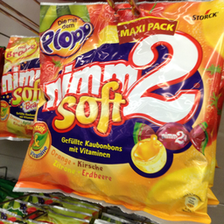candy: (42, 4, 218, 215)
